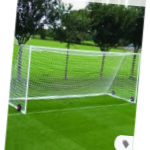goals: (13, 43, 139, 114)
